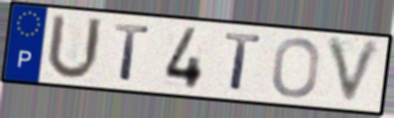4: (161, 25, 206, 92)
O: (270, 35, 323, 100)
T: (223, 30, 264, 94), (112, 21, 152, 84)
U: (43, 11, 105, 83)
V: (324, 36, 385, 110)
